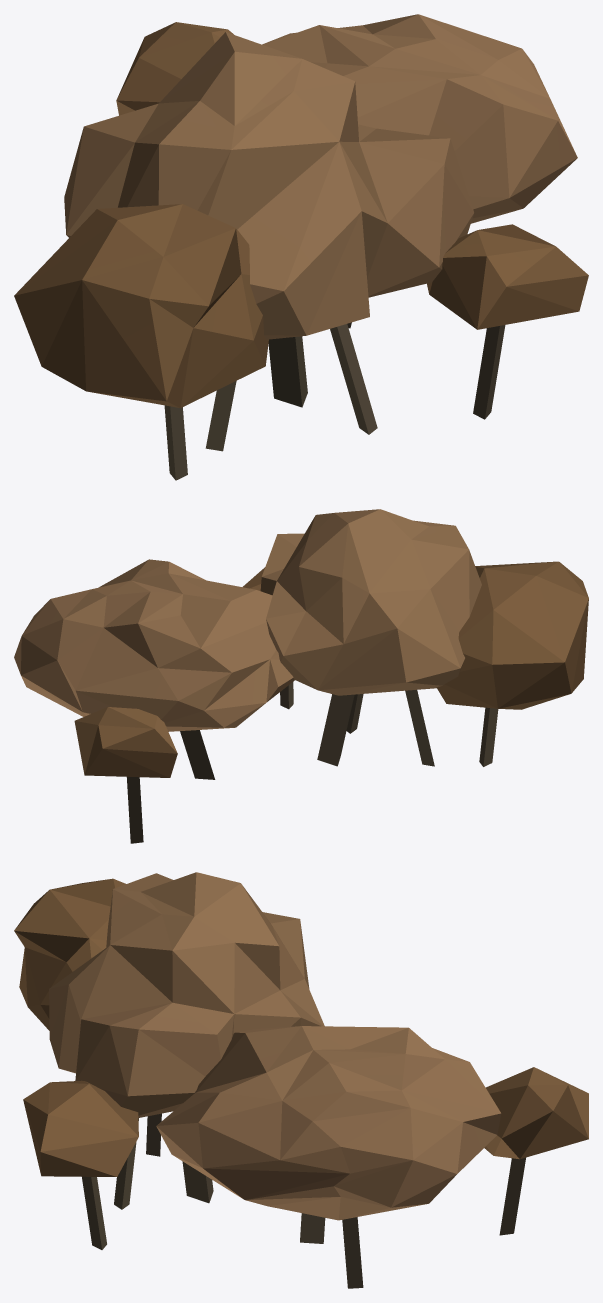
Rendered from SM_Plant_Bush_02.glb.
3 renders of one model, top to bottom at view 1: azimuth 30°, elevation 25°; view 2: azimuth 150°, elevation 25°; view 3: azimuth 270°, elevation 25°, orthographic. The views are drawn at different scales.
Parts seen in each view (by area): view 1: SM_Plant_Bush_02; view 2: SM_Plant_Bush_02; view 3: SM_Plant_Bush_02.
Part boxes in pixels (x1,y1,x2,y2): SM_Plant_Bush_02: (14,14,588,480); SM_Plant_Bush_02: (14,509,588,843); SM_Plant_Bush_02: (14,872,588,1288).
Bounding box in the file's own units: 277 × 152 × 265.
1 material, 1 textured.
